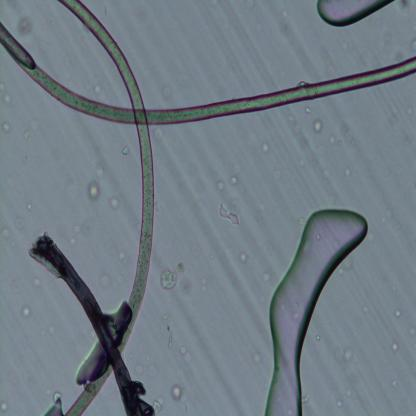Air bubble: (263, 208, 368, 416), (315, 0, 396, 29)
Background material: (320, 119, 356, 154), (160, 260, 186, 290), (291, 104, 309, 137), (218, 203, 241, 225), (162, 312, 175, 350), (270, 9, 292, 30), (118, 240, 133, 269), (138, 398, 161, 416), (98, 273, 122, 290), (208, 167, 224, 192), (85, 177, 101, 200), (381, 198, 392, 229), (16, 16, 33, 36), (171, 383, 188, 403), (0, 83, 13, 108), (339, 345, 355, 365), (246, 347, 262, 365), (179, 344, 195, 361), (256, 136, 270, 155), (108, 194, 122, 210), (160, 80, 170, 102), (238, 249, 250, 267), (0, 120, 13, 135), (227, 173, 240, 187), (407, 35, 416, 55), (312, 118, 323, 134), (20, 304, 31, 320), (0, 224, 12, 238), (18, 128, 30, 142), (336, 392, 345, 410), (396, 0, 409, 12), (392, 306, 402, 321), (201, 272, 208, 292), (322, 165, 331, 180), (390, 341, 400, 354), (362, 298, 370, 314), (15, 214, 24, 228), (406, 105, 416, 117), (121, 144, 131, 155), (28, 201, 33, 213)
Cotton: (28, 232, 142, 415)
Microfibre: (0, 23, 416, 128), (57, 1, 154, 415)
